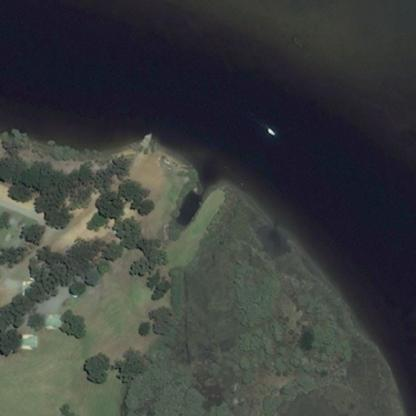ship: (262, 122, 278, 140)
